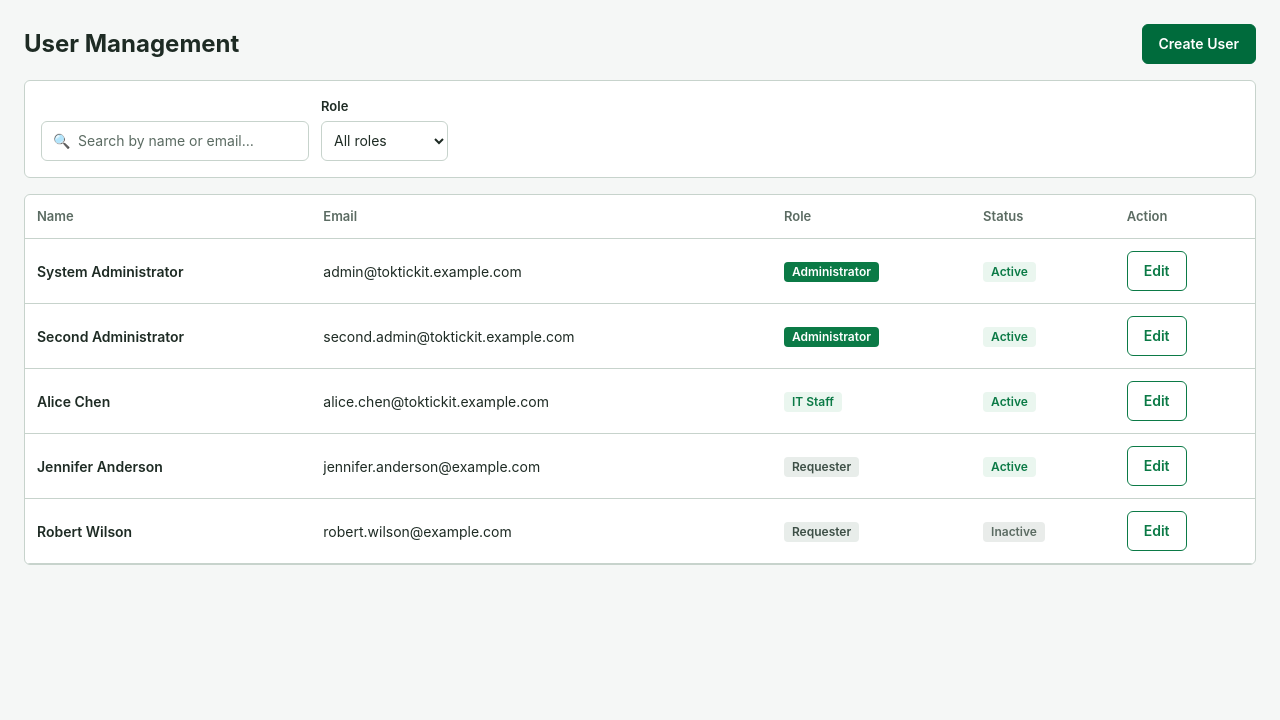
Test: UI-08 — User Management list, search, filter and modals (ui-spec §7) › sends the debounced search term as `q` and renders the matching subset
The image size is (1280, 720).
Expected: the element with test id "users-table" is shown, [24, 194, 1256, 565]
Type "alice" into the field labelled "Search by name or email…" at (175, 140), box [41, 120, 309, 160]
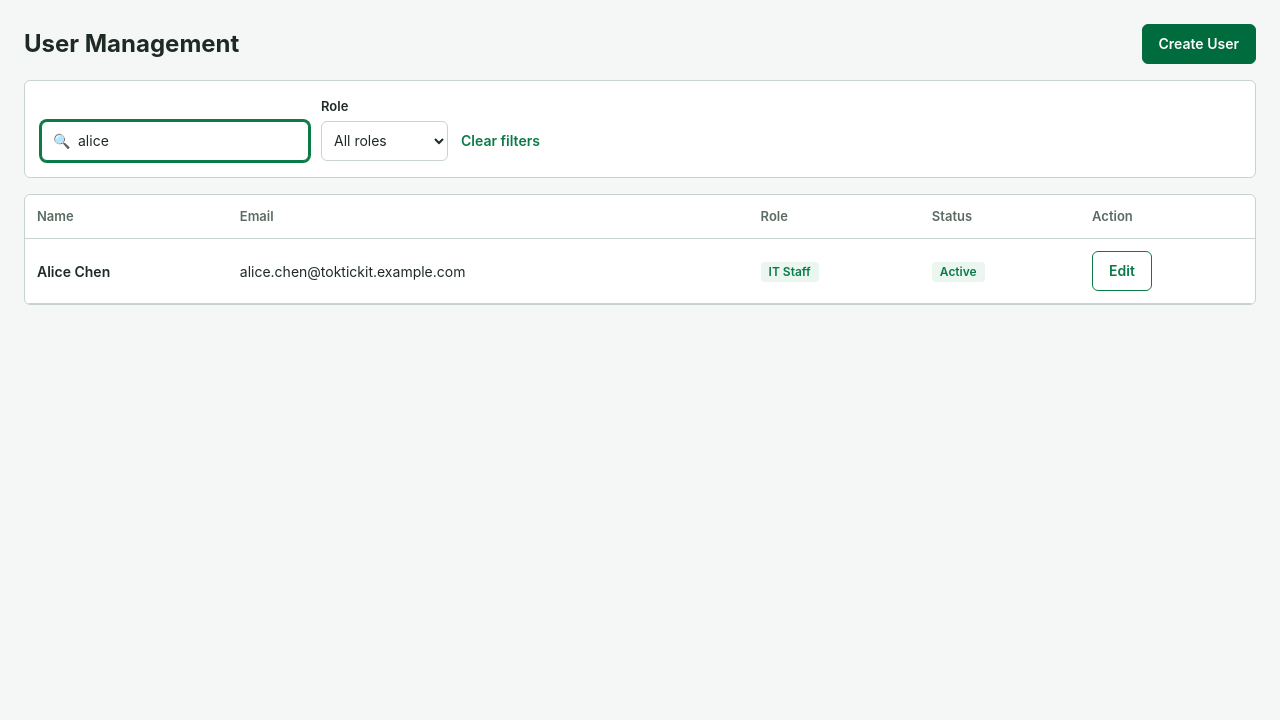
Expected: the text "Alice Chen" is shown, [37, 262, 110, 280]
Expected: the number of rows with test id "user-row" is 1, [25, 238, 1255, 304]
